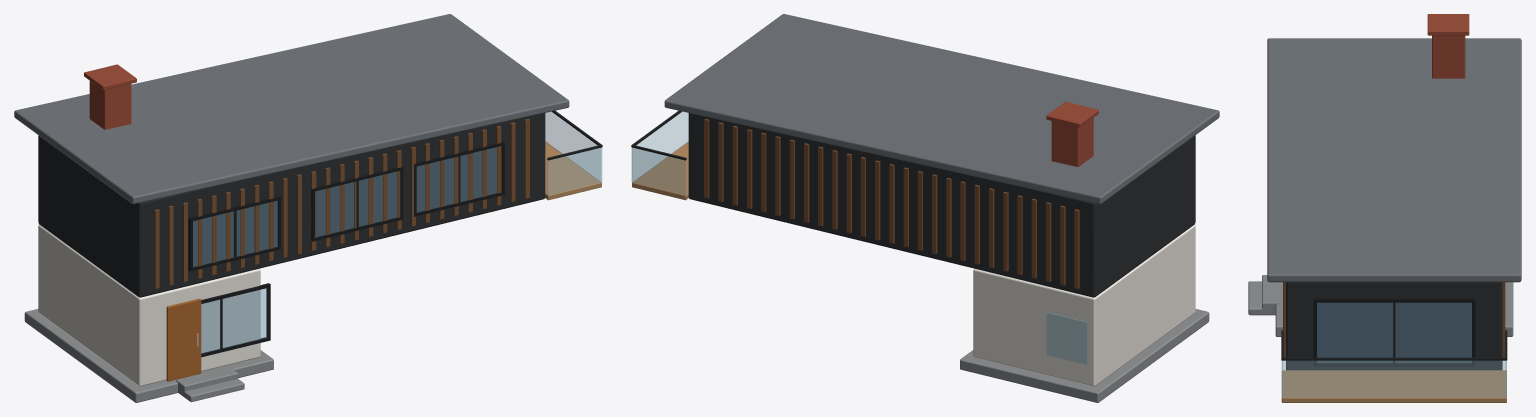
File: original.glb
The picture shows the model from 3 angles, left to right: view 1: azimuth 30°, elevation 25°; view 2: azimuth 150°, elevation 25°; view 3: azimuth 270°, elevation 25°; orthographic projection. The views are drawn at different scales.
Visible parts, largest first — view 1: Roof, Upper floor, Ground floor, Timber battens, Glazing, Plinth, Window frames, Glass balustrade, Front door, Chimney, Terrace deck; view 2: Roof, Upper floor, Ground floor, Timber battens, Plinth, Glass balustrade, Chimney, Terrace deck, Glazing; view 3: Roof, Upper floor, Glazing, Glass balustrade, Terrace deck, Chimney, Window frames, Plinth, Handrail, Timber battens.
Boxes of the visible parts, <box> form: Roof: <box>14,14,569,204</box>; Upper floor: <box>38,113,545,297</box>; Ground floor: <box>38,225,260,386</box>; Timber battens: <box>154,119,529,288</box>; Glazing: <box>193,146,501,353</box>; Plinth: <box>24,309,273,402</box>; Window frames: <box>188,141,504,357</box>; Glass balustrade: <box>545,112,602,195</box>; Front door: <box>166,298,201,381</box>; Chimney: <box>84,64,136,129</box>; Terrace deck: <box>545,141,601,200</box>; Roof: <box>664,14,1219,204</box>; Upper floor: <box>688,113,1195,297</box>; Ground floor: <box>973,225,1195,386</box>; Timber battens: <box>704,119,1079,288</box>; Plinth: <box>960,309,1209,402</box>; Glass balustrade: <box>631,112,688,195</box>; Chimney: <box>1046,101,1098,166</box>; Terrace deck: <box>632,141,688,200</box>; Glazing: <box>1046,312,1087,364</box>; Roof: <box>1267,38,1521,282</box>; Upper floor: <box>1286,282,1502,370</box>; Glazing: <box>1317,302,1471,362</box>; Glass balustrade: <box>1281,360,1506,397</box>; Terrace deck: <box>1281,370,1506,402</box>; Chimney: <box>1427,14,1469,78</box>; Window frames: <box>1283,282,1475,366</box>; Plinth: <box>1248,275,1513,336</box>; Handrail: <box>1281,330,1507,360</box>; Timber battens: <box>1283,282,1505,357</box>.
Bounding box in the file's own units: 14.06 × 7.2 × 6.55.
